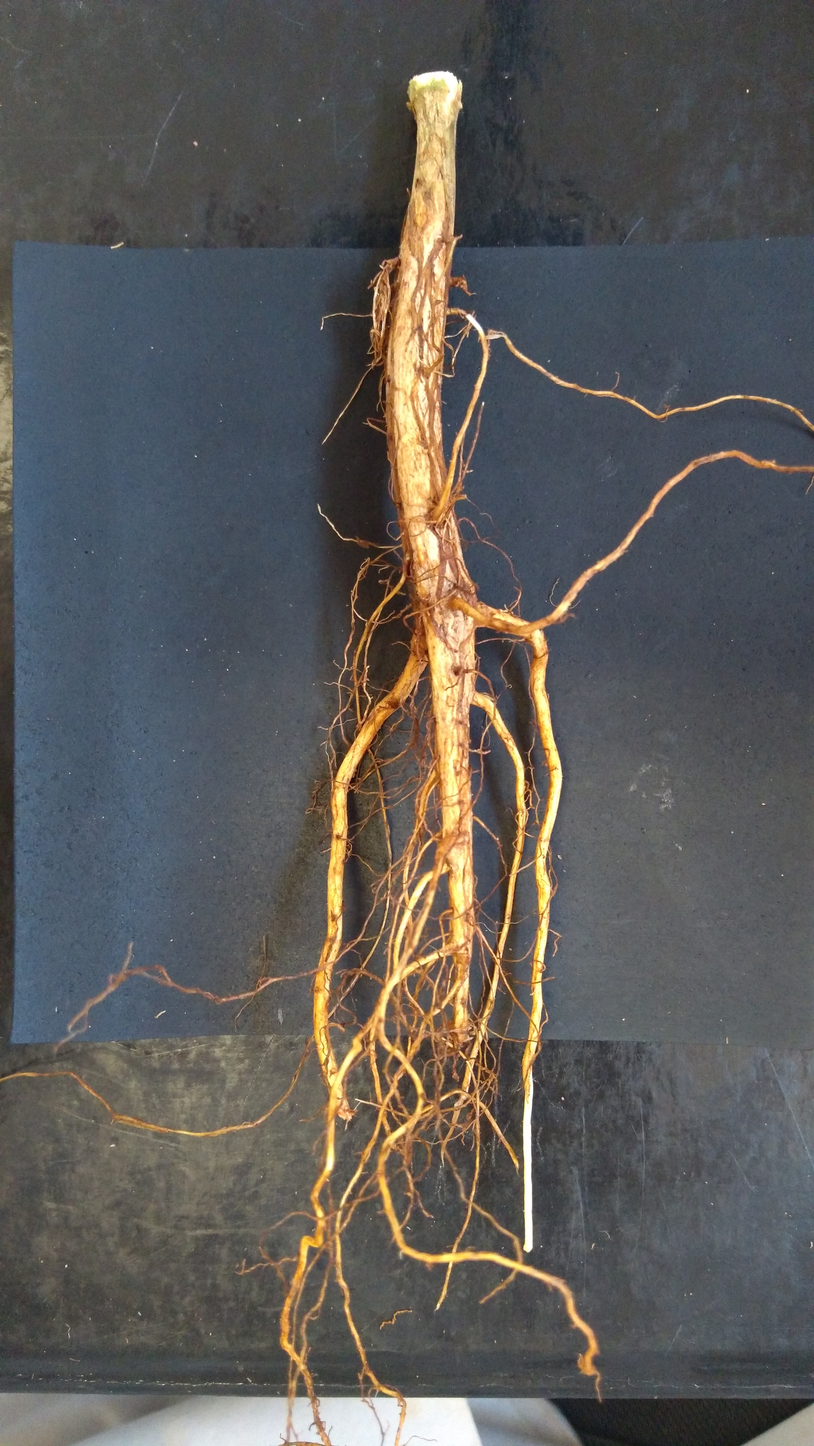nodule: (429, 603, 473, 653), (369, 323, 388, 353), (410, 628, 428, 659), (452, 1072, 460, 1082), (405, 551, 411, 562)
